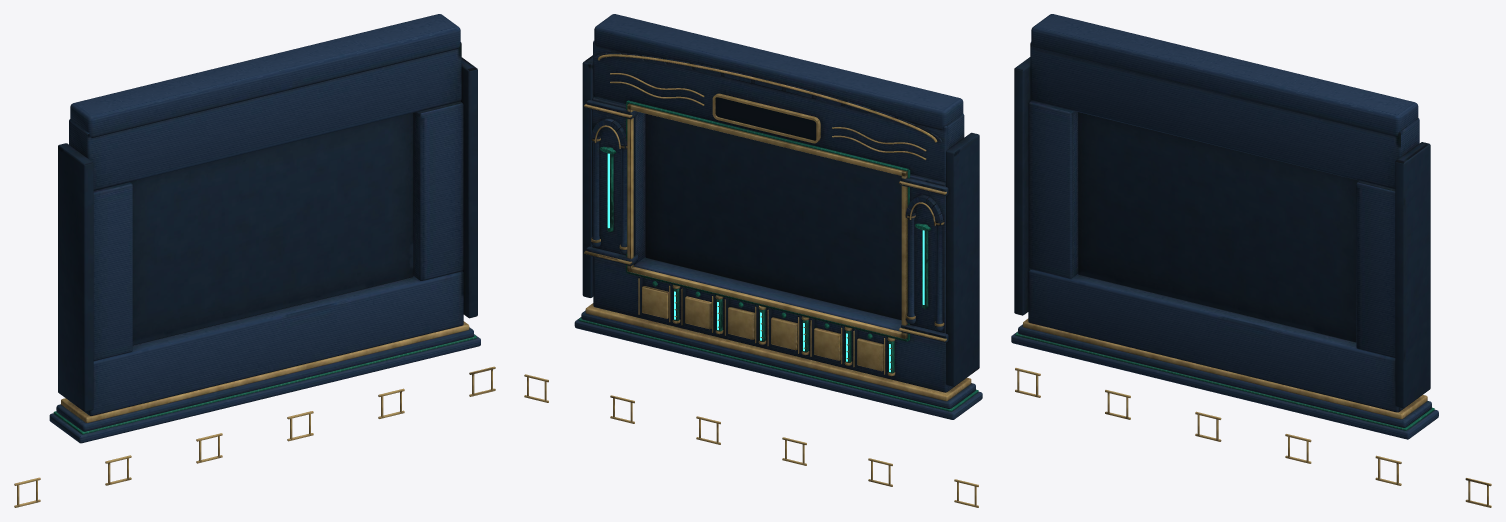
3 renders of one model, left to right at view 1: azimuth 30°, elevation 25°; view 2: azimuth 150°, elevation 25°; view 3: azimuth 330°, elevation 25°, orthographic. The views are drawn at different scales.
Parts seen in each view (by area): view 1: Aqueduct_navy_stone, Aqueduct_blue_iron, Sluice_antique_gold, Emerald_carved_stone; view 2: Aqueduct_navy_stone, Aqueduct_blue_iron, Sluice_antique_gold, Emerald_carved_stone, Display_uniform_dark_face, Emerald_water_glow; view 3: Aqueduct_navy_stone, Aqueduct_blue_iron, Sluice_antique_gold, Emerald_carved_stone.
Boxes of the visible parts, x1=… form: Aqueduct_navy_stone: x1=49, y1=14, x2=480, y2=443; Aqueduct_blue_iron: x1=58, y1=57, x2=477, y2=411; Sluice_antique_gold: x1=14, y1=321, x2=495, y2=507; Emerald_carved_stone: x1=53, y1=335, x2=476, y2=434; Aqueduct_navy_stone: x1=574, y1=14, x2=982, y2=419; Aqueduct_blue_iron: x1=582, y1=55, x2=979, y2=386; Sluice_antique_gold: x1=524, y1=54, x2=978, y2=507; Emerald_carved_stone: x1=578, y1=100, x2=978, y2=411; Display_uniform_dark_face: x1=715, y1=97, x2=816, y2=140; Emerald_water_glow: x1=607, y1=153, x2=924, y2=372; Aqueduct_navy_stone: x1=1011, y1=14, x2=1438, y2=439; Aqueduct_blue_iron: x1=1014, y1=57, x2=1430, y2=408; Sluice_antique_gold: x1=1015, y1=318, x2=1491, y2=507; Emerald_carved_stone: x1=1015, y1=332, x2=1434, y2=430.
Size of the model in its own units: 13.73 by 10.95 by 1.79.
6 materials, 5 textured.
